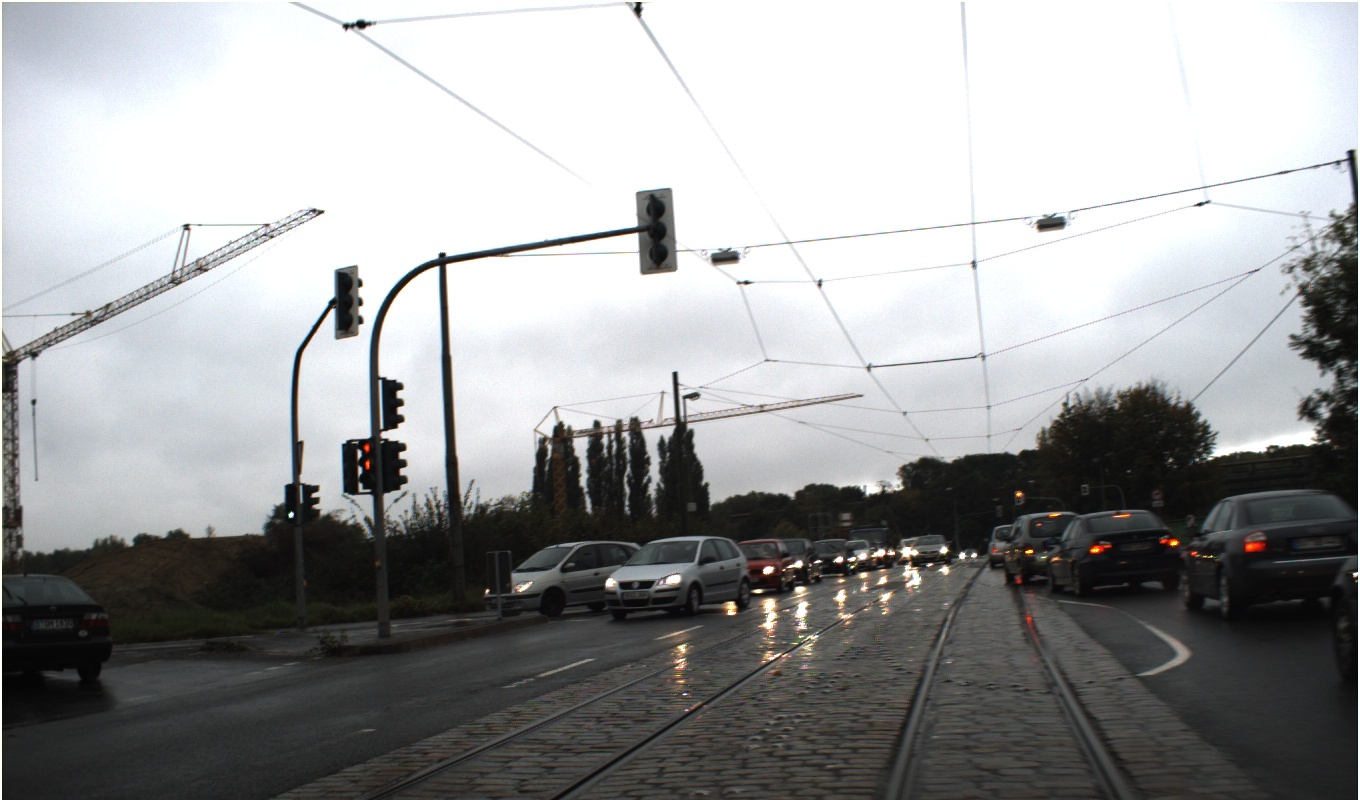car: (1187, 490, 1343, 608), (483, 536, 598, 621), (624, 536, 750, 612), (1058, 517, 1169, 602), (1, 584, 110, 661), (1321, 540, 1360, 690), (1006, 516, 1072, 583), (748, 521, 795, 597), (795, 539, 847, 572), (783, 536, 814, 586), (985, 531, 1017, 569), (913, 539, 954, 565), (855, 532, 895, 558), (846, 539, 874, 568), (899, 530, 917, 561), (955, 547, 981, 564)
green: (281, 482, 324, 538)
red: (999, 468, 1039, 509)
